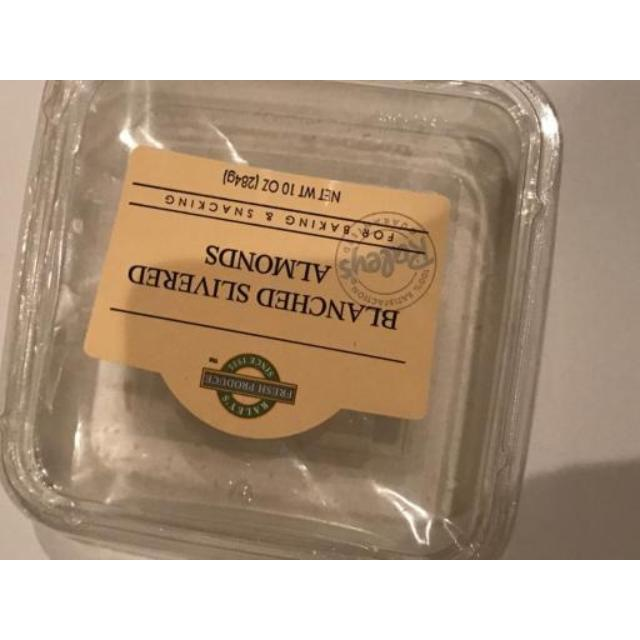plastic: (0, 80, 562, 558)
